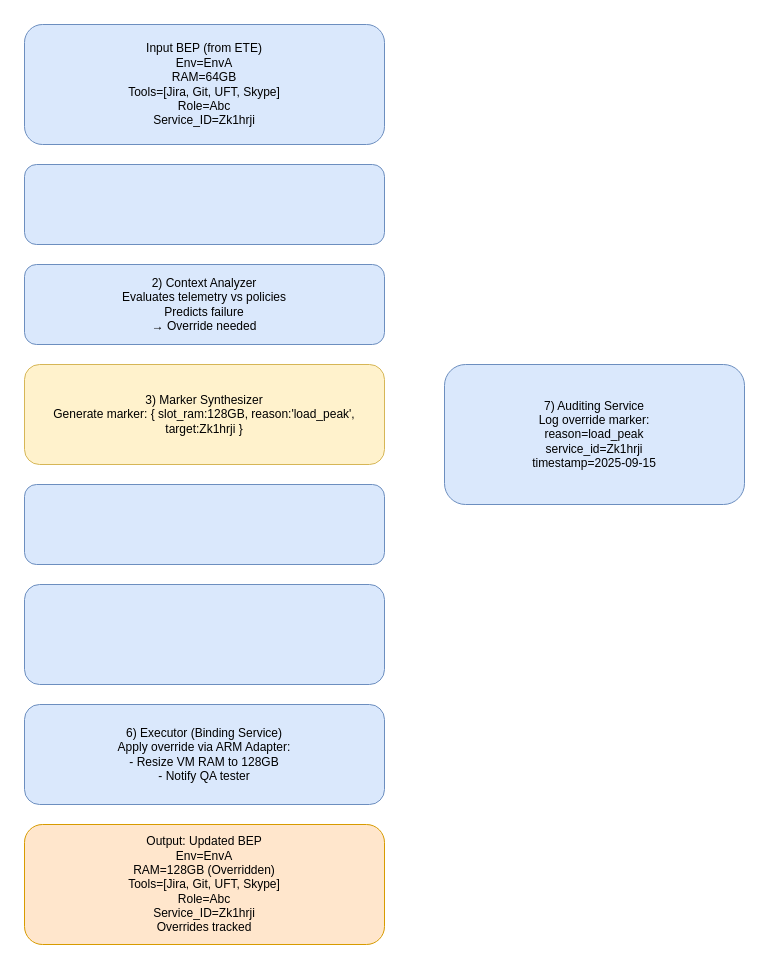
The diagram is 762 pixels wide and 962 high, and some of its shapes have lost their labels. Here are the shapes that lost their labels. From the top down, the centre of each, then its label:
At point 204,204: "1) Telemetry Collector Detects >90% RAM usage QA load test in progress".
At point 204,524: "4) Override Applier Patch BEP: RAM 64GB → 128GB".
At point 204,634: "5) Conflict Resolver Check constraints: ✔ Max RAM=128GB ✔ Licenses OK".
